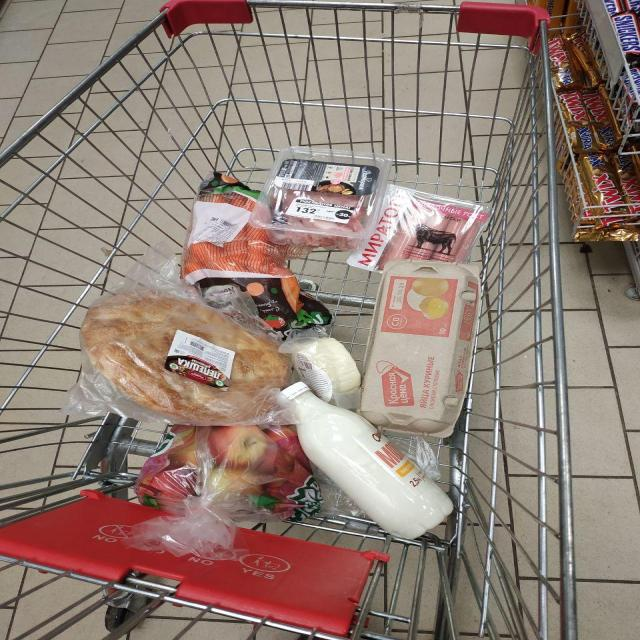apple: (137, 222, 393, 640), (111, 231, 321, 640), (94, 235, 291, 640), (103, 238, 287, 640)
carrot: (131, 110, 378, 345), (110, 117, 340, 369), (120, 126, 329, 369), (92, 127, 276, 396)
cheese: (184, 195, 536, 551)
egg: (243, 138, 640, 404)
milk: (233, 255, 640, 640)
